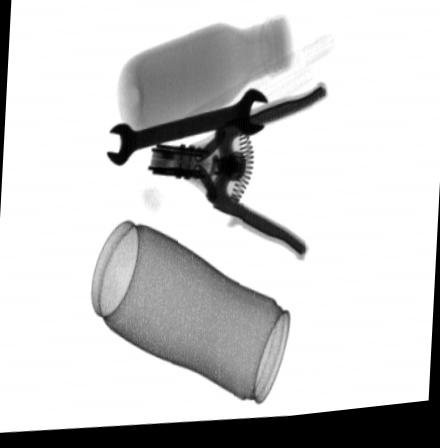Pliers: (146, 86, 328, 272)
Wrench: (105, 92, 269, 167)
